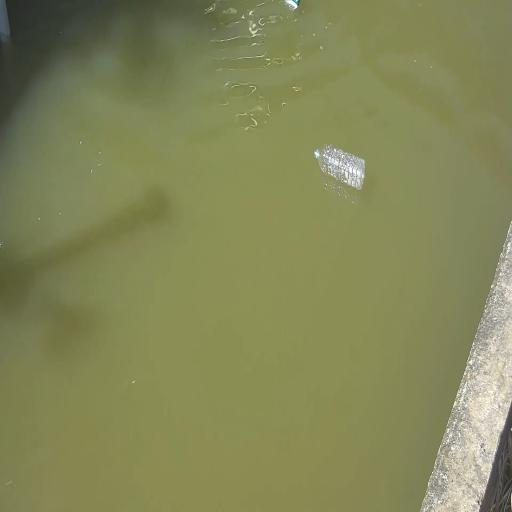plastic: (314, 146, 366, 189), (280, 0, 299, 10)
